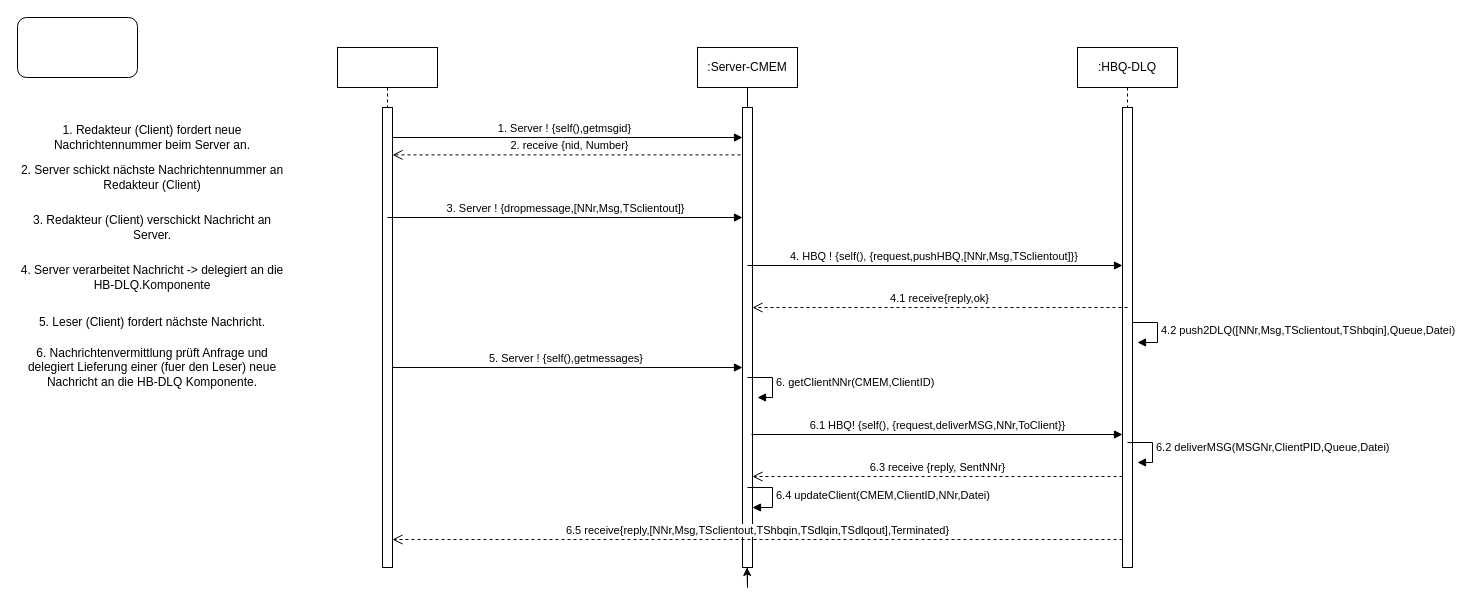
Image size: 1473x613. Some labels were removed from this diagram. Here are the shapes that lost their labels. From the top down, the box of each, then its label:
(16, 16, 138, 78): Client-Server Applikation, VS P1
(336, 46, 438, 568): :Client
